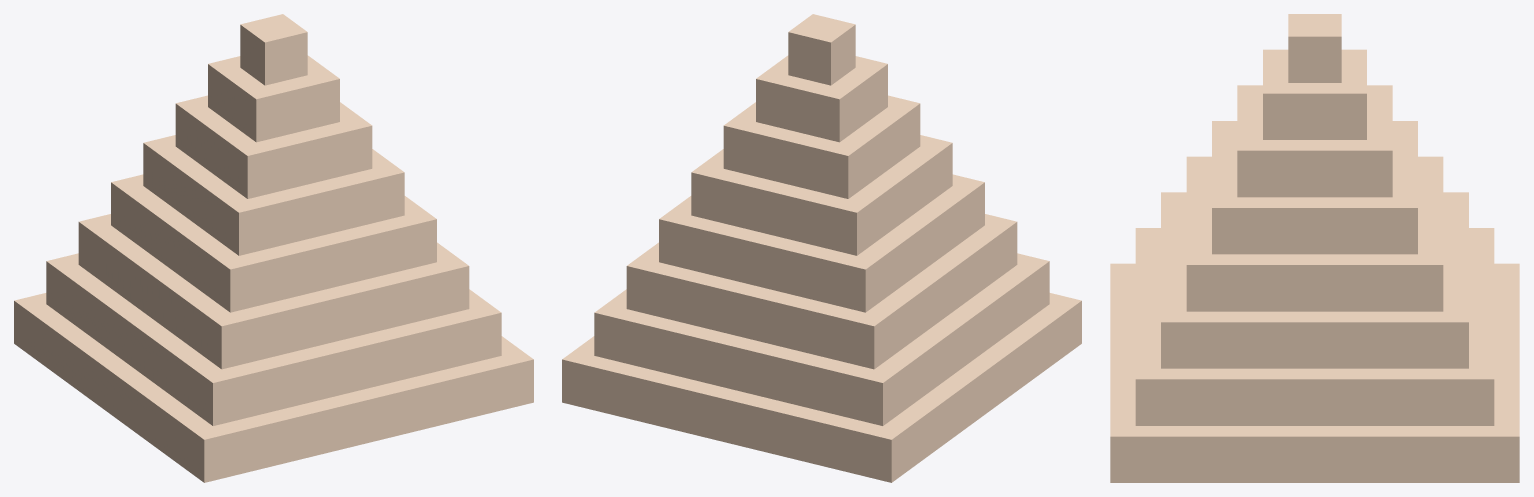
File: Abstract_Modular_Roof_1.0_Beige_02.fbx
3 renders of one model, left to right at view 1: azimuth 30°, elevation 25°; view 2: azimuth 150°, elevation 25°; view 3: azimuth 270°, elevation 25°, orthographic. The views are drawn at different scales.
Visible parts, largest first — view 1: Abstract_Modular_Roof_1.0_Beige_02; view 2: Abstract_Modular_Roof_1.0_Beige_02; view 3: Abstract_Modular_Roof_1.0_Beige_02.
Boxes of the visible parts, x1=… form: Abstract_Modular_Roof_1.0_Beige_02: x1=14, y1=14, x2=533, y2=482; Abstract_Modular_Roof_1.0_Beige_02: x1=562, y1=14, x2=1081, y2=482; Abstract_Modular_Roof_1.0_Beige_02: x1=1110, y1=14, x2=1519, y2=482.
Bounding box in the file's own units: 118 × 118 × 118.
